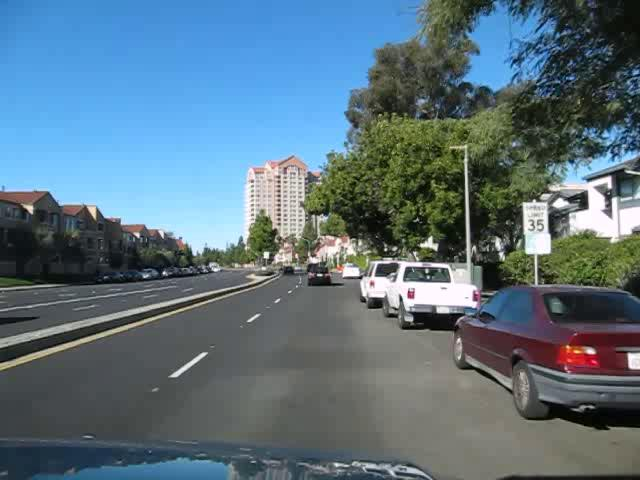speedLimit35: (522, 202, 548, 233)
